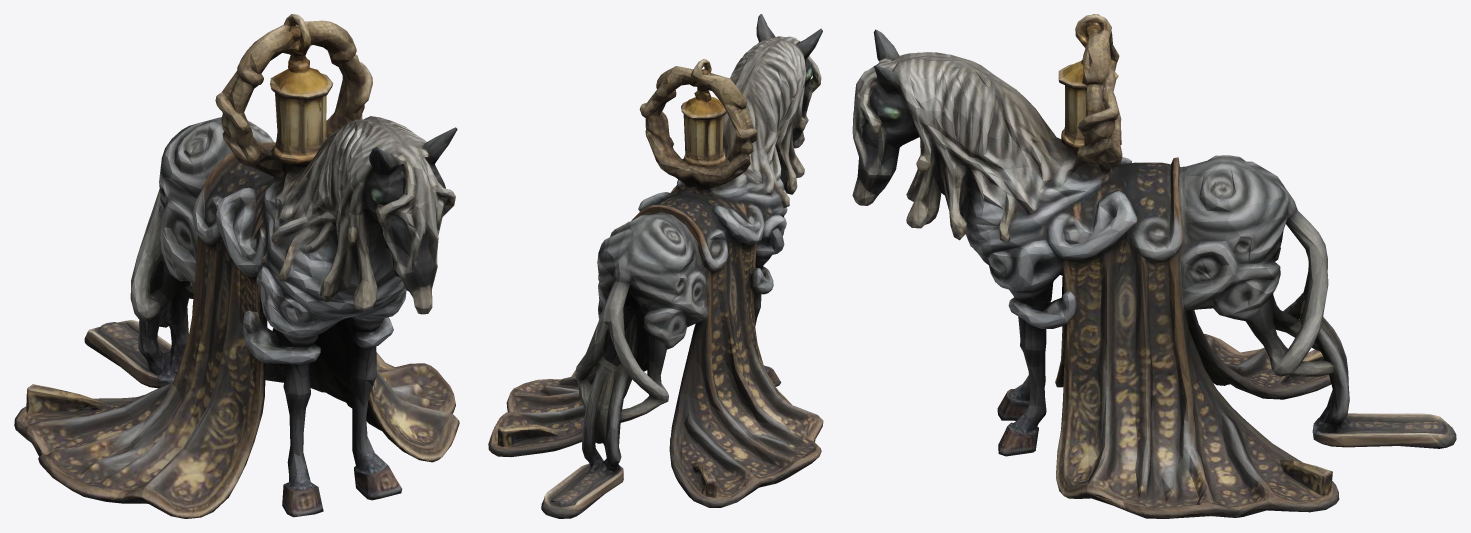
The model's file is mothmara__vigilMare.glb.
3 views of the same model, side by side, from view 1: azimuth 30°, elevation 25°; view 2: azimuth 150°, elevation 25°; view 3: azimuth 270°, elevation 25° (orthographic). The views are drawn at different scales.
Parts seen in each view (by area): view 1: world; view 2: world; view 3: world.
Boxes of the visible parts, x1,y1,x2,y2 form: world: (14, 14, 459, 518); world: (488, 14, 823, 518); world: (852, 14, 1456, 518).
Bounding box in the file's own units: 0.6874 × 0.7778 × 0.9981.
Materials: 1 (1 with a texture image).
